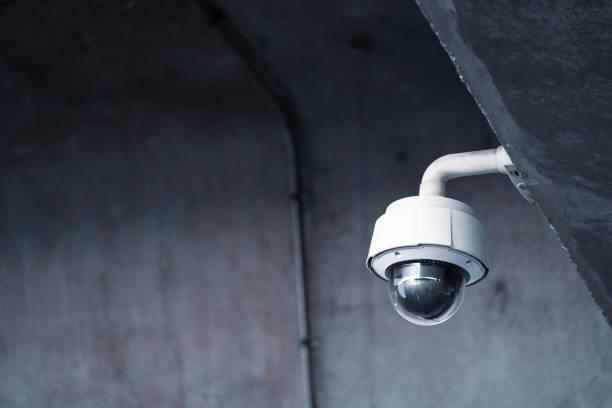camera: (331, 176, 519, 344)
